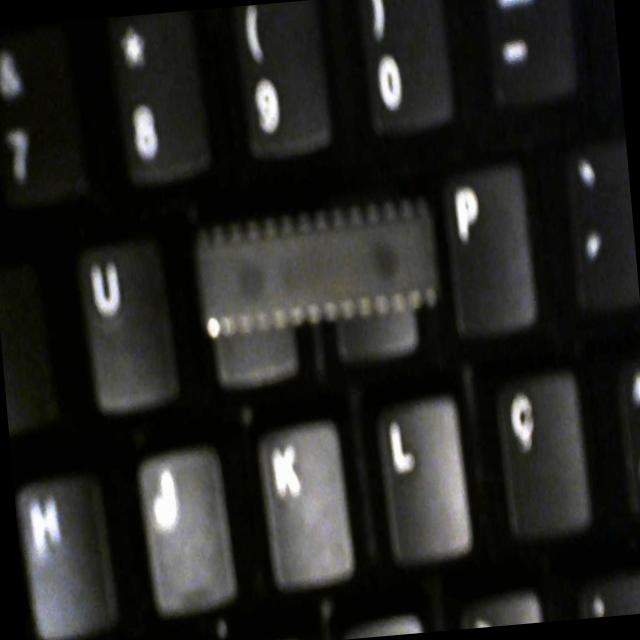atmega: (186, 198, 449, 336)
